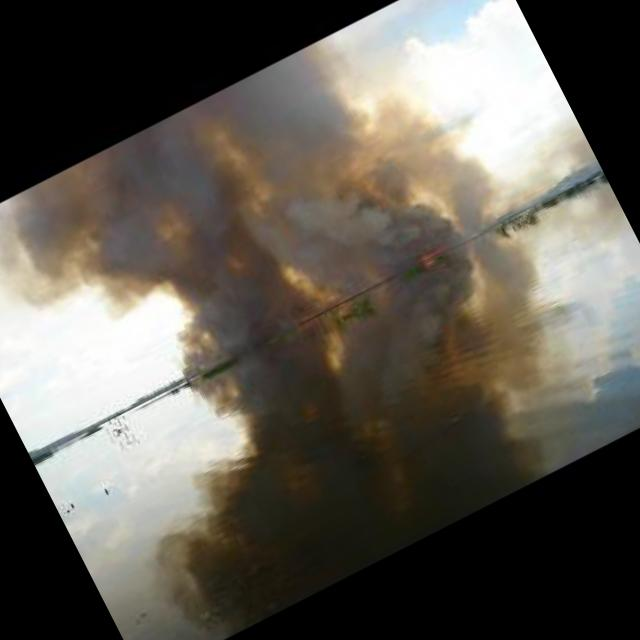fire: (422, 244, 446, 262)
smoke: (21, 14, 478, 392)
